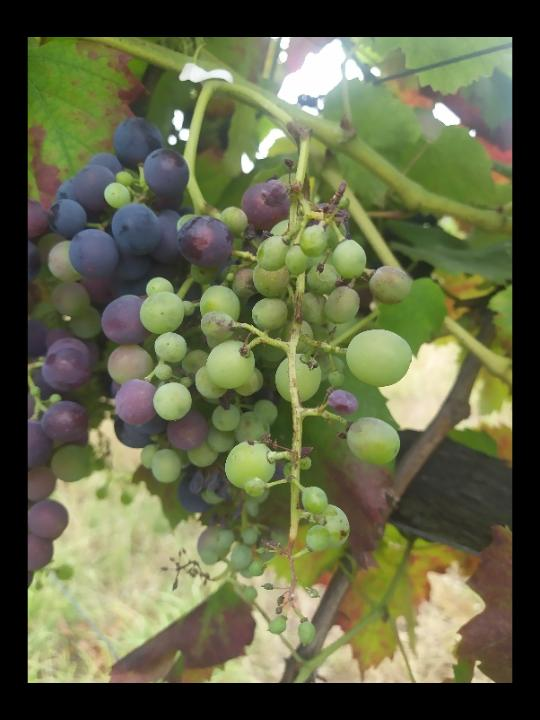grape: (137, 175, 417, 649)
